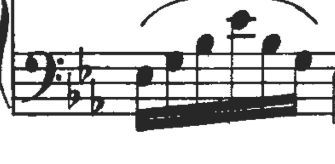bass_clef: (19, 47, 64, 103)
flat: (74, 44, 98, 88), (62, 72, 84, 118), (88, 77, 108, 120)
